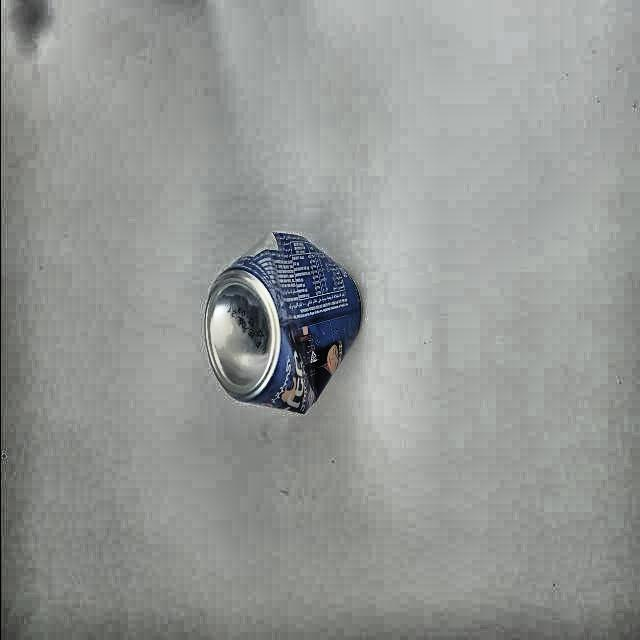metal: (203, 233, 364, 416)
